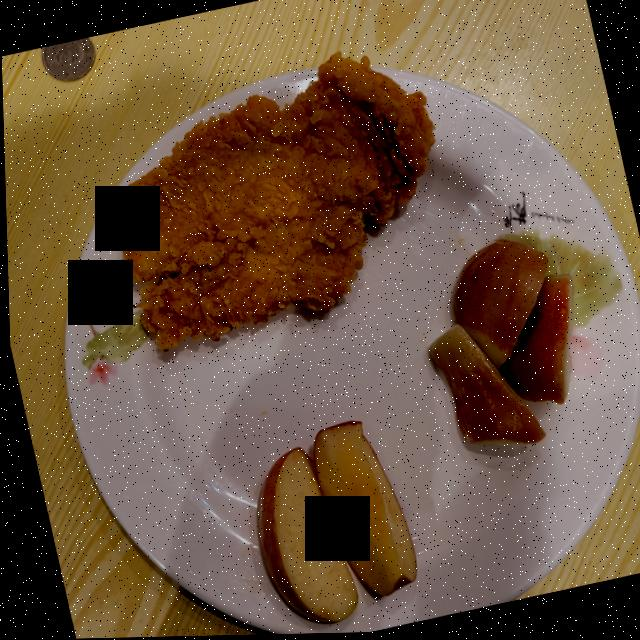apple -sliced-: (255, 423, 413, 624)
coin: (40, 38, 94, 82)
fried chicken cutlet: (118, 56, 433, 350)
